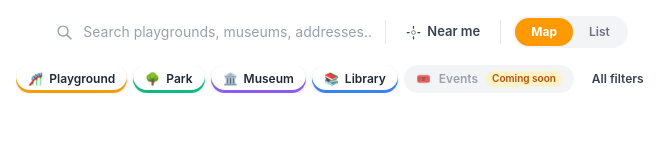
it: activity keyword search (issue #212) › finds a playground row via "trampoline" even though it is not in the name
Type "trampoline" into the dropdown with placeholder "Search playgrounds, museums, addresses…" at (228, 32), box [83,22,373,42]
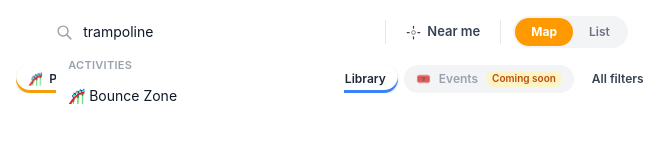
Now the option "🎢 Bounce Zone" is shown, box [56,78,344,114]
